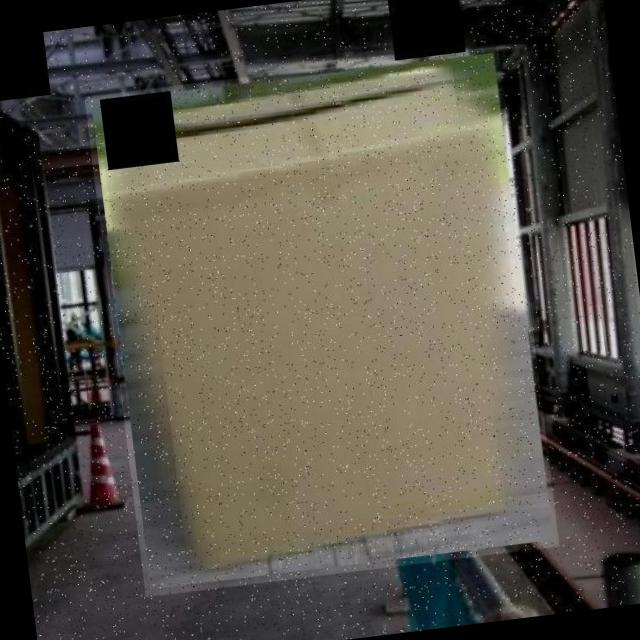box: (84, 46, 559, 597)
